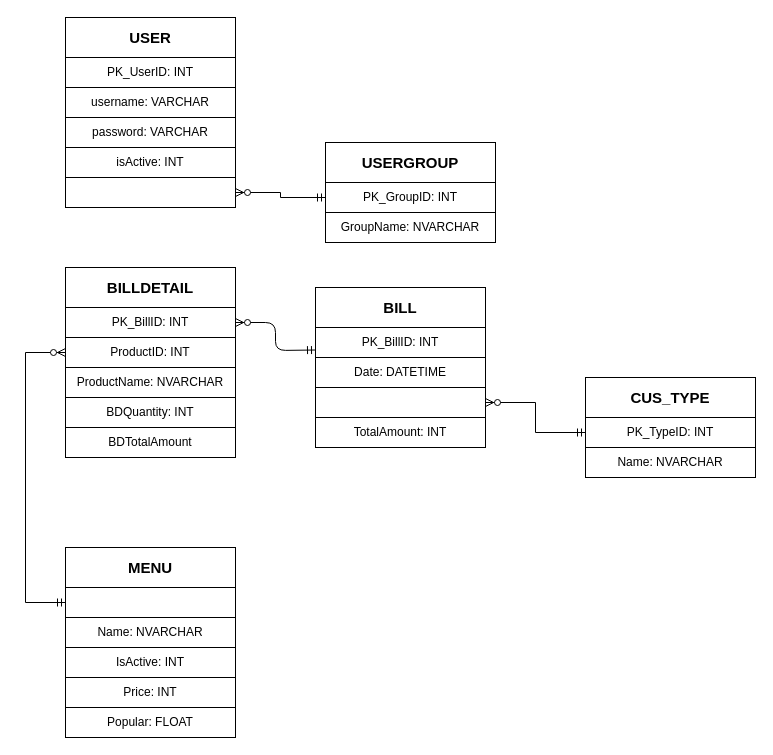
This 773x755 diagram has some shape labels left out. Here are the shapes that lost their labels. From the top down, the centre of each, then its label:
At [150,192]: "GroupID: INT".
At [400,402]: "TypeID: INT".
At [150,602]: "PK_ID: INT".
